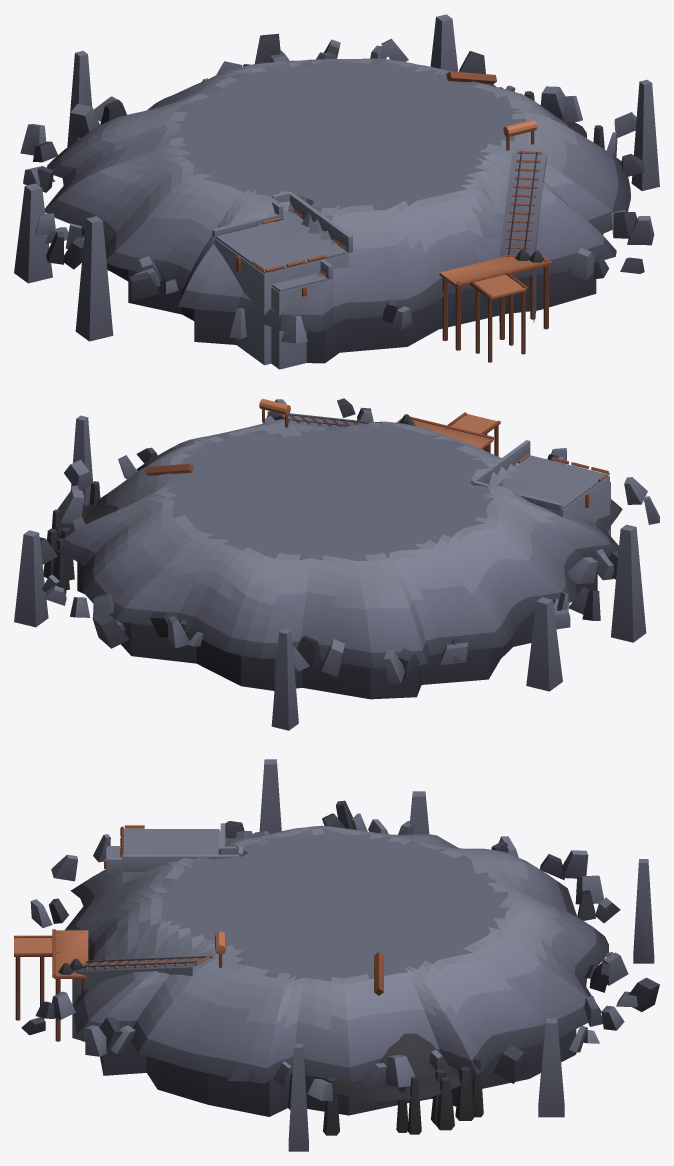
Rendered from mine-body.glb.
3 renders of one model, top to bottom at view 1: azimuth 30°, elevation 25°; view 2: azimuth 150°, elevation 25°; view 3: azimuth 270°, elevation 25°, orthographic. The views are drawn at different scales.
Visible parts, largest first — view 1: body; view 2: body; view 3: body.
Part boxes in pixels (x1,y1,x2,y2): body: [14, 14, 659, 369]; body: [14, 398, 659, 730]; body: [14, 759, 659, 1151].
Size of the model in its own units: 33.39 by 7.11 by 32.21.
